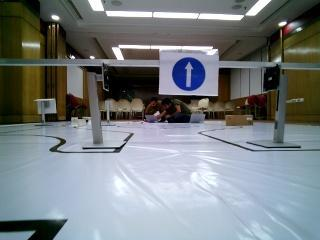straight: (157, 48, 221, 97)
